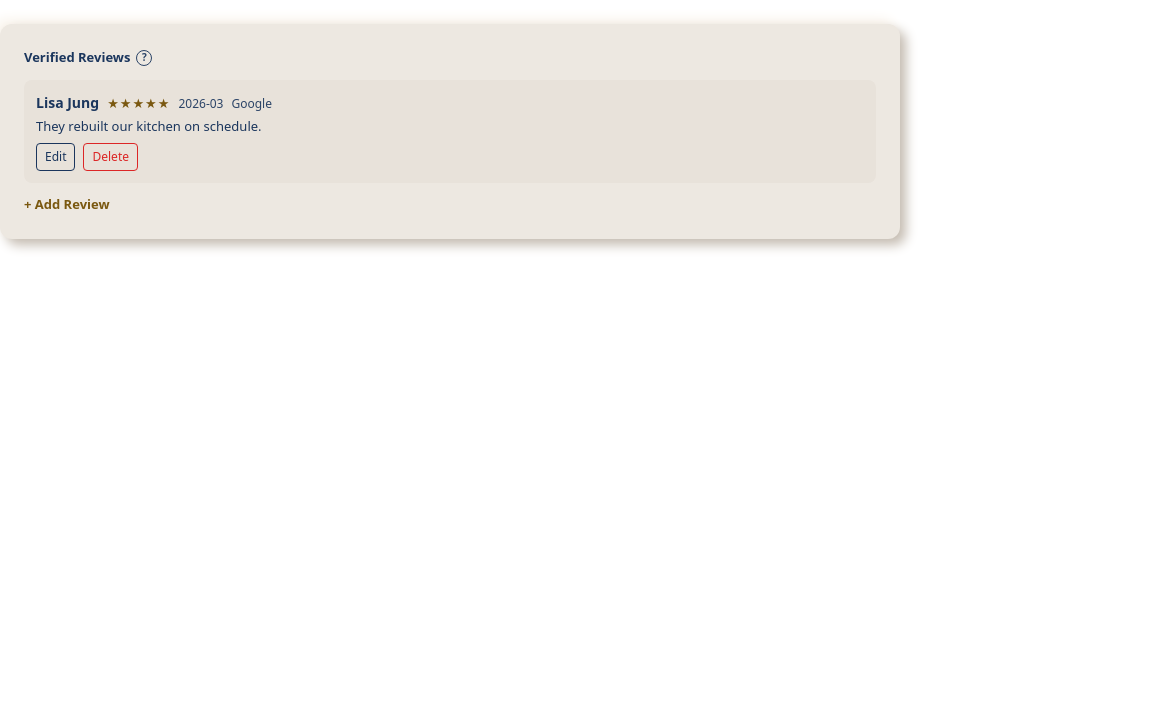
ProjectReviewsSection copy scope › scopes the delete-confirmation message to the unlinked surface
Click the button "Delete" at {"x": 111, "y": 156}, box [84, 142, 138, 170]
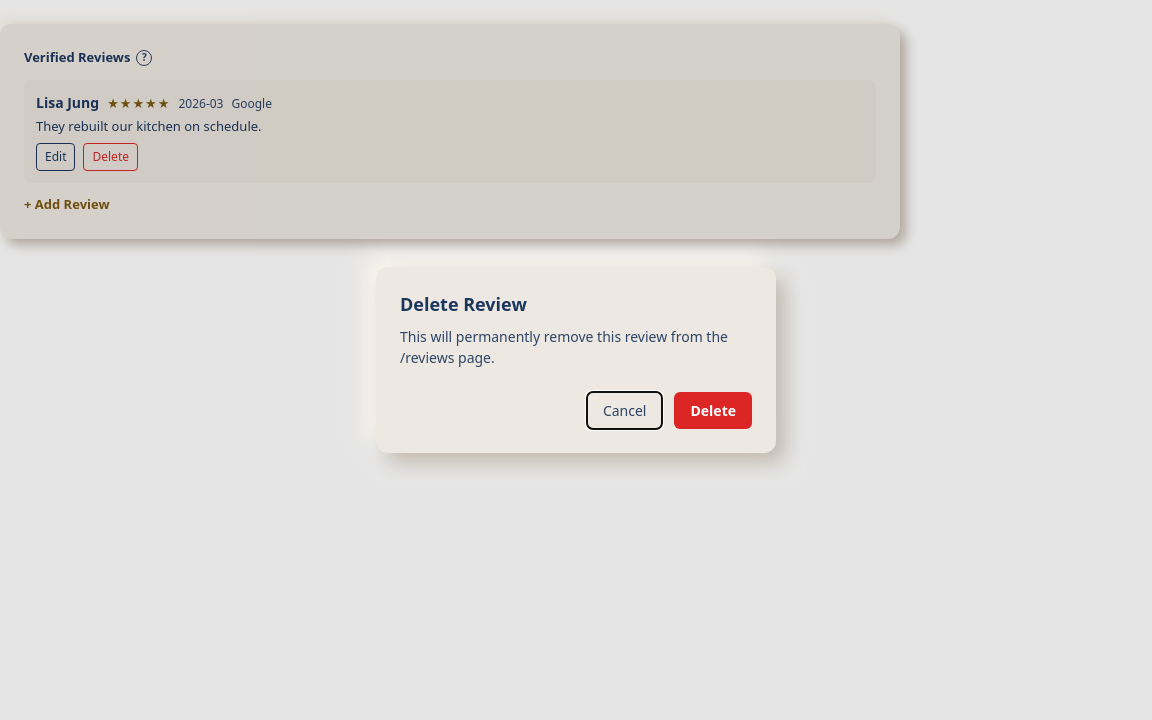
Result: the text "This will permanently remove this review from the /reviews page." is shown at [400, 326, 752, 368]
